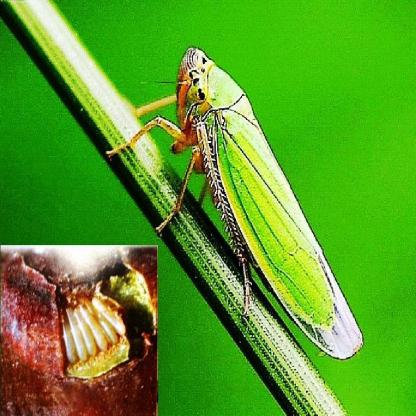Green-Leafhopper: (86, 19, 405, 414)
